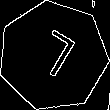L_SW: (27, 27, 80, 86)
